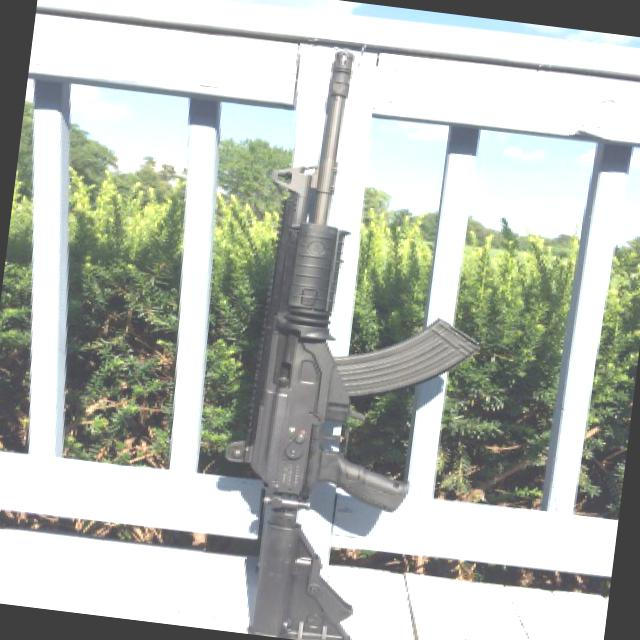long weapon: (188, 20, 523, 639)
